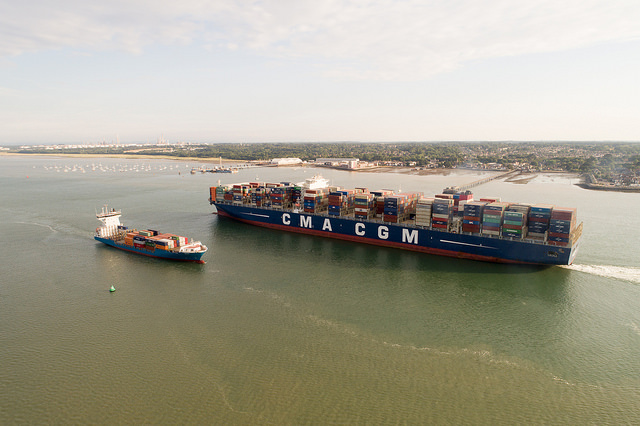container_ship: (208, 175, 582, 269), (93, 202, 209, 266)
